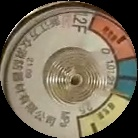green: (113, 56, 138, 100)
red: (91, 14, 137, 62)
yellow: (77, 95, 131, 138)
